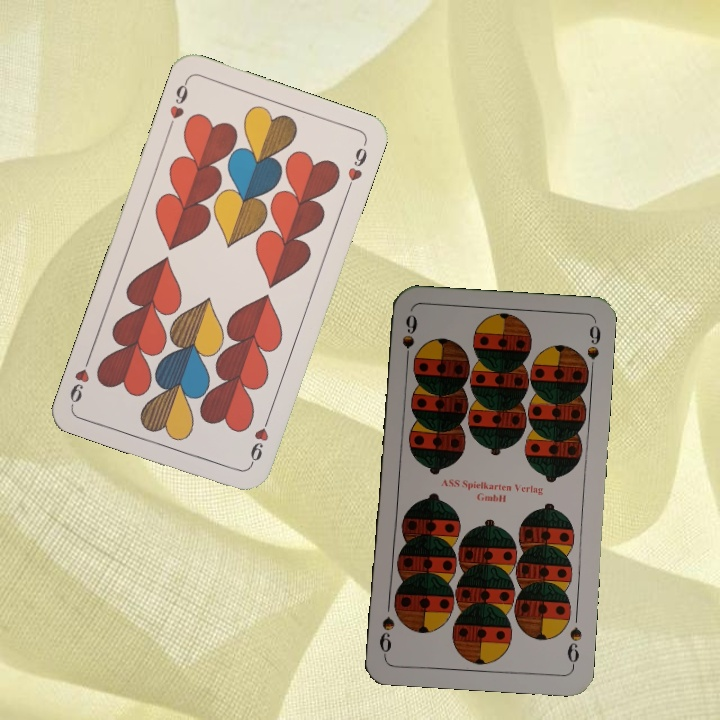H9: (163, 76, 191, 133), (245, 412, 273, 469)
S9: (398, 310, 420, 369), (563, 623, 585, 670)
